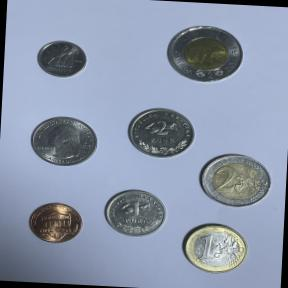1 Euro: (176, 218, 252, 278)
2 Euro: (195, 149, 276, 213)
Canda-10cent-: (32, 37, 92, 83)
Canda-2Dollar-: (160, 21, 250, 88)
Croatia-2Kune-: (124, 103, 198, 161)
US-1cent-: (24, 199, 87, 247)
US-25cent-: (26, 113, 102, 171)
